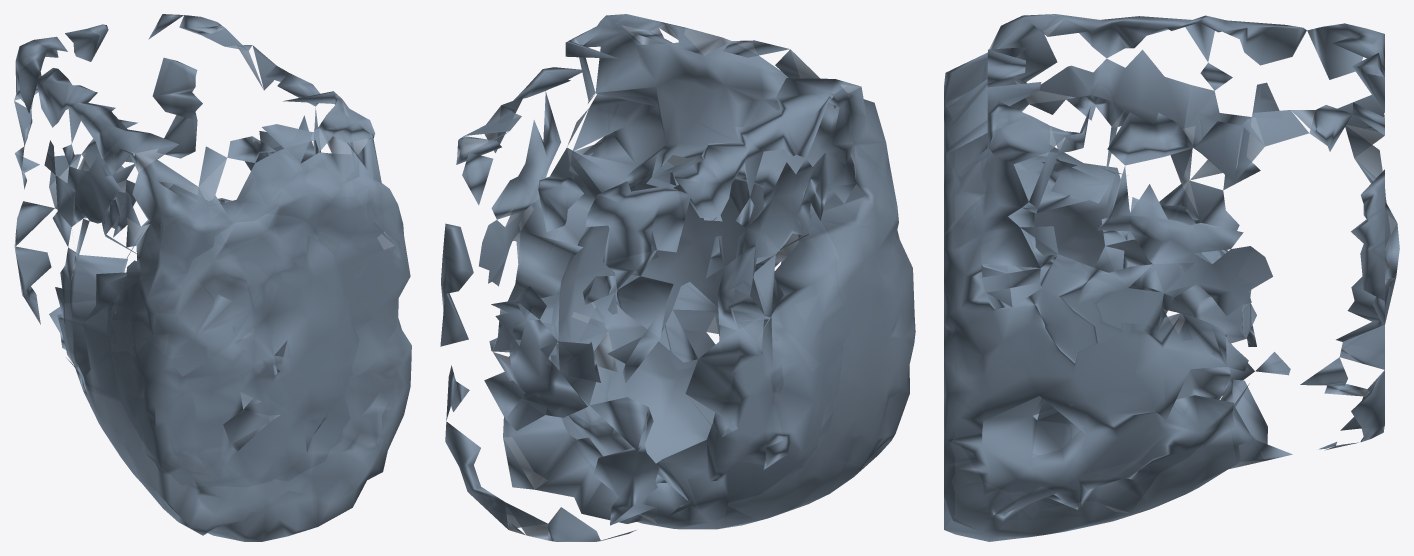
The model's file is toilet_0052_original.obj.
3 renders of one model, left to right at view 1: azimuth 30°, elevation 25°; view 2: azimuth 150°, elevation 25°; view 3: azimuth 270°, elevation 25°, orthographic. The views are drawn at different scales.
Size of the model in its own units: 0.9005 by 1.27 by 1.19.
